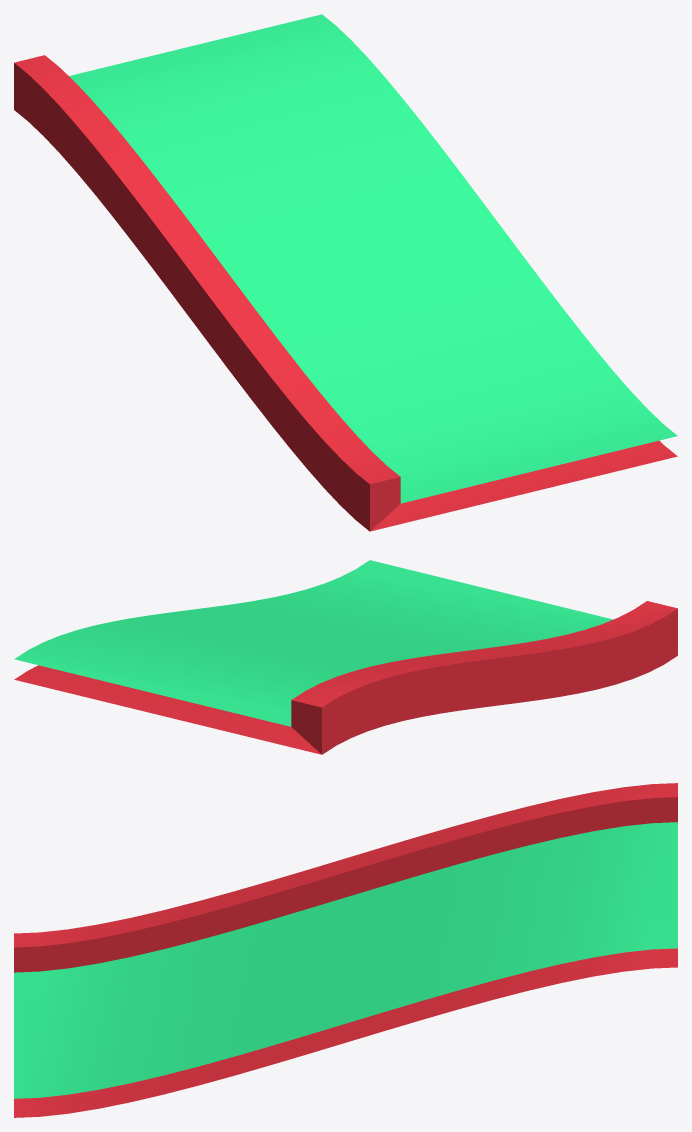
The model's file is rampLargeSide.fbx.
3 views of the same model, one above another, from view 1: azimuth 30°, elevation 25°; view 2: azimuth 150°, elevation 25°; view 3: azimuth 270°, elevation 25° (orthographic). The views are drawn at different scales.
Visible parts, largest first — view 1: rampLargeSide; view 2: rampLargeSide; view 3: rampLargeSide.
Part boxes in pixels (<box>): rampLargeSide: <box>14,14,677,531</box>; rampLargeSide: <box>14,560,677,754</box>; rampLargeSide: <box>14,783,677,1117</box>.
Bounding box in the file's own units: 99.99 × 200 × 64.67.
